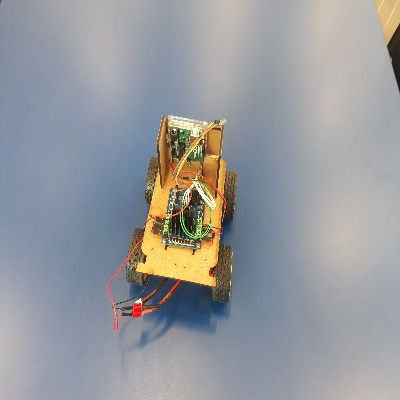Robot: (125, 112, 236, 303)
